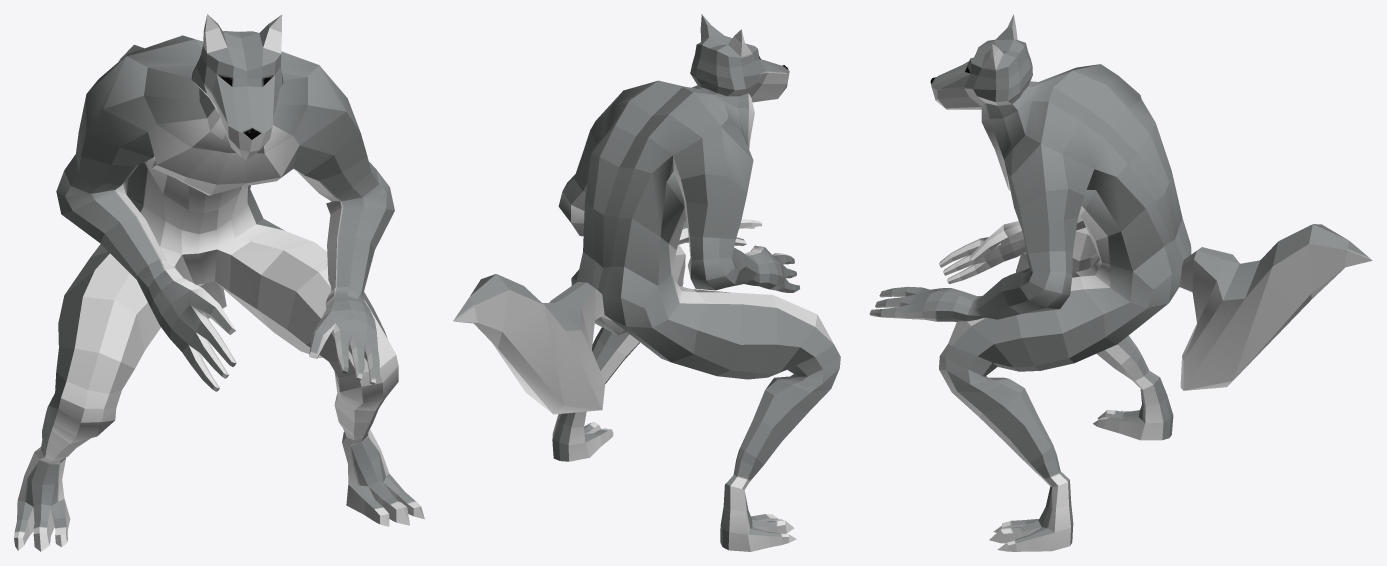
File: WolfAttack(114).obj
3 renders of one model, left to right at view 1: azimuth 30°, elevation 25°; view 2: azimuth 150°, elevation 25°; view 3: azimuth 270°, elevation 25°, orthographic. The views are drawn at different scales.
Visible parts, largest first — view 1: Box001; view 2: Box001; view 3: Box001.
Boxes of the visible parts, <box> form: Box001: <box>14,14,424,551</box>; Box001: <box>453,14,840,551</box>; Box001: <box>869,14,1372,551</box>.
Bounding box in the file's own units: 77.43 × 118 × 118.
